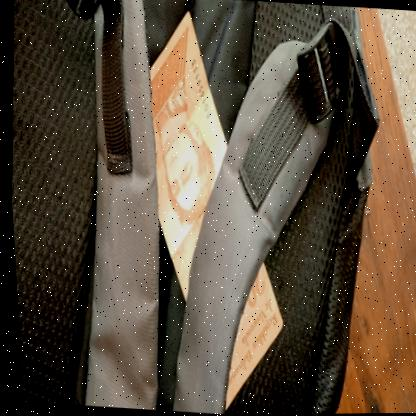twenty-front-vef: (120, 7, 304, 415)
